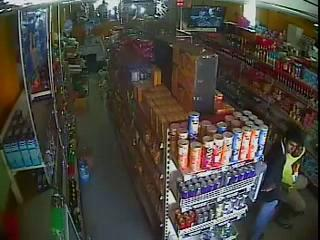Normal: (248, 123, 316, 240)
